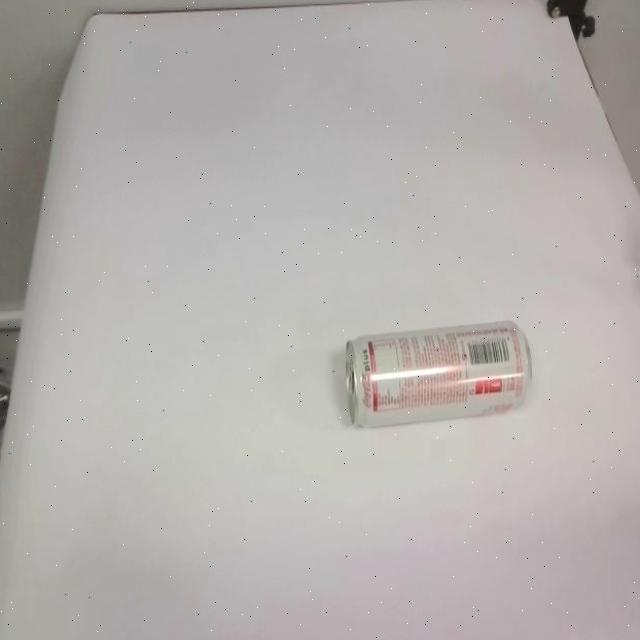debris: (343, 319, 534, 430)
